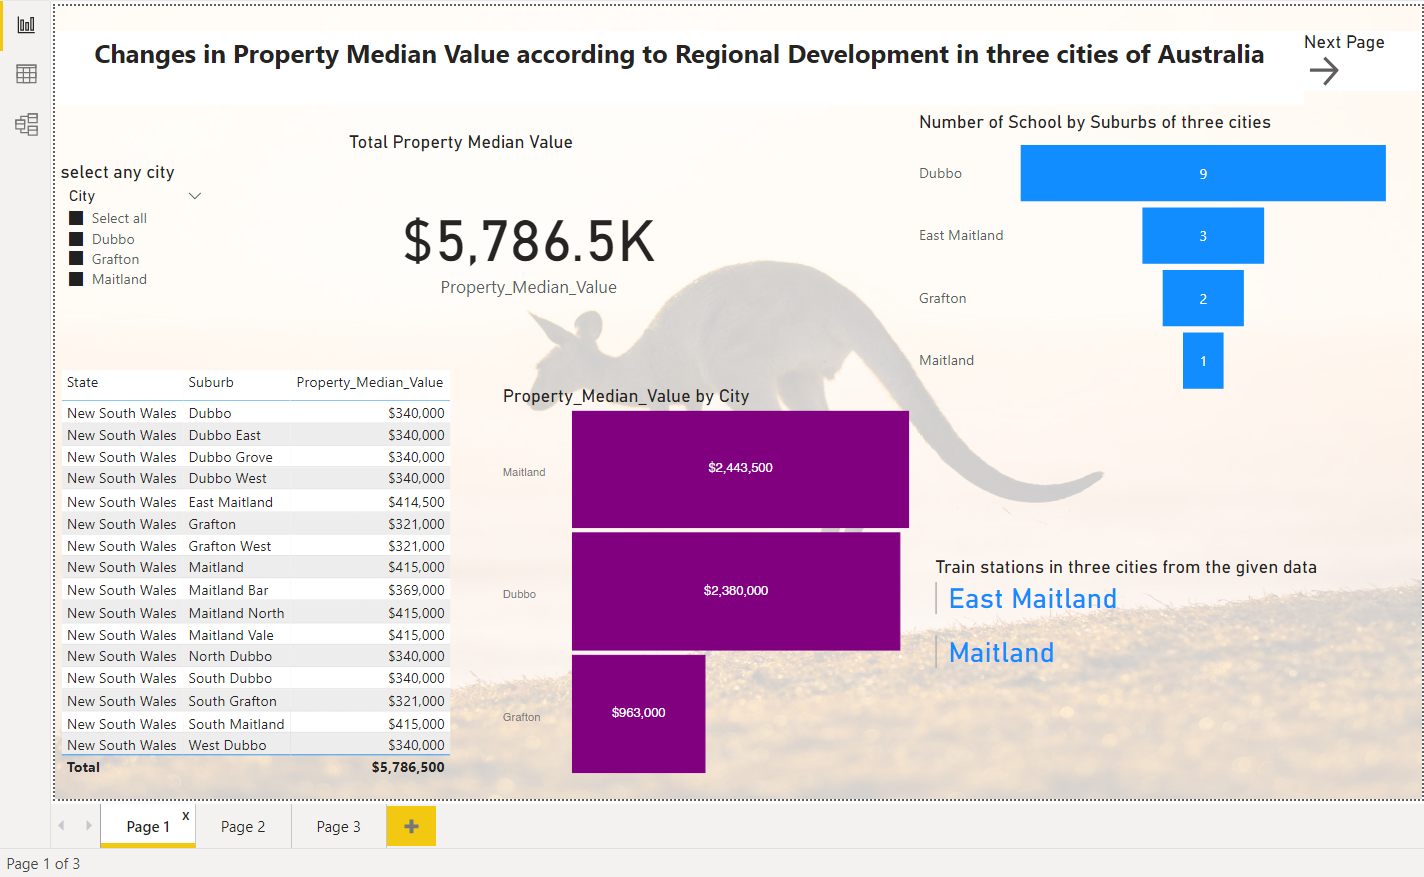

What the dashboard file says about the page in this screenshot:
{"tool":"powerbi","page":{"name":"Page 1","canvas":[1280,720],"ordinal":0},"visuals":[{"type":"textbox","box":[0,0,1169.6,69.1],"z":0},{"type":"tableEx","fields":{"Values":["NSW_PropertyMedainValue1.State","NSW_PropertyMedainValue1.Suburb","Sum(NSW_PropertyMedainValue1.Property_Median_Value)"]},"box":[0,312.6,375.8,407.4],"z":1000},{"type":"slicer","title":"select any city","fields":{"Values":["NSW_PropertyMedainValue1.City"]},"box":[0,121.8,149.9,178],"z":2000},{"type":"card","title":"Total Property Median Value","fields":{"Values":["Sum(NSW_PropertyMedainValue1.Property_Median_Value)"]},"box":[270.4,93.7,346.5,194.3],"z":3000},{"type":"TornadoChart1452517688218","fields":{"Values":["Sum(NSW_PropertyMedainValue1.Property_Median_Value)"],"Category":["NSW_PropertyMedainValue1.City"]},"box":[414.4,331.3,405.1,388.7],"z":4000},{"type":"funnel","title":"Number of School by Suburbs of three cities","fields":{"Category":["NSW_Public_Schools_Master_Dataset_07032017.Suburb"],"Y":["CountNonNull(NSW_Public_Schools_Master_Dataset_07032017.School_name)"]},"box":[804.3,74.9,451.9,271.6],"z":5000},{"type":"actionButton","title":"Next Page","box":[1169.6,0,110,56.2],"z":7000},{"type":"multiRowCard","title":"Train stations in three cities from the given data","fields":{"Values":["TrainStation.Train_Suburb"]},"box":[819.5,491.7,449.6,189.7],"z":7001}]}

Visuals, with their boxes on the page's 1280x720 design canvas (x1, y1, x2, y2). These are canvas units, not pixel positions in the 1424x877 screenshot, which may show the page scaled, cropped or inside an application window:
textbox: [left=0, top=0, right=1170, bottom=69]
tableEx - NSW_PropertyMedainValue1.State x NSW_PropertyMedainValue1.Suburb: [left=0, top=313, right=376, bottom=720]
"select any city" slicer: [left=0, top=122, right=150, bottom=300]
"Total Property Median Value" card: [left=270, top=94, right=617, bottom=288]
TornadoChart1452517688218 - Sum(NSW_PropertyMedainValue1.Property_Median_Value) x NSW_PropertyMedainValue1.City: [left=414, top=331, right=820, bottom=720]
"Number of School by Suburbs of three cities" funnel: [left=804, top=75, right=1256, bottom=346]
"Next Page" actionButton: [left=1170, top=0, right=1280, bottom=56]
"Train stations in three cities from the given data" multiRowCard: [left=820, top=492, right=1269, bottom=681]
